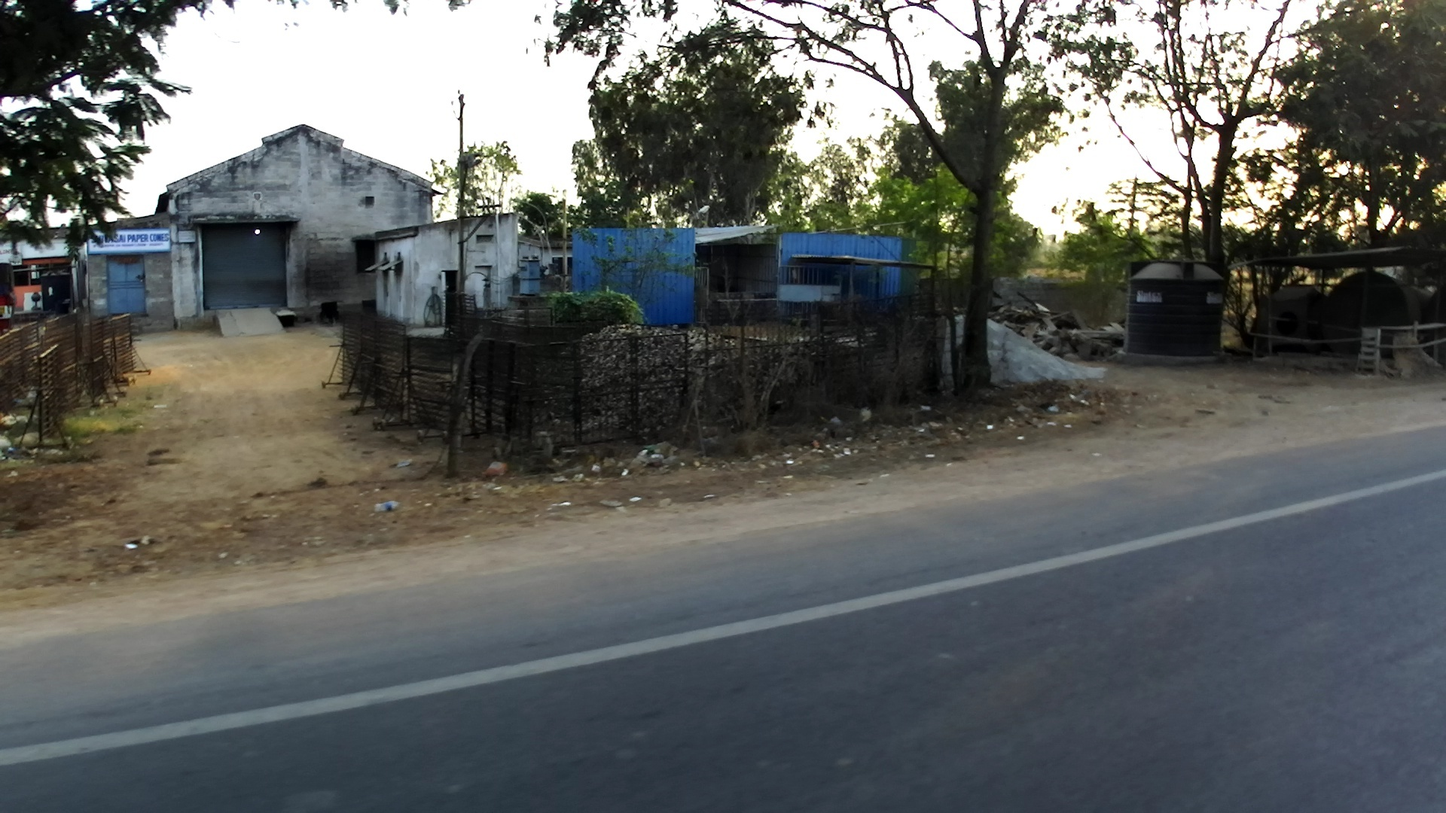vehicle fallback: (1, 260, 16, 338)
